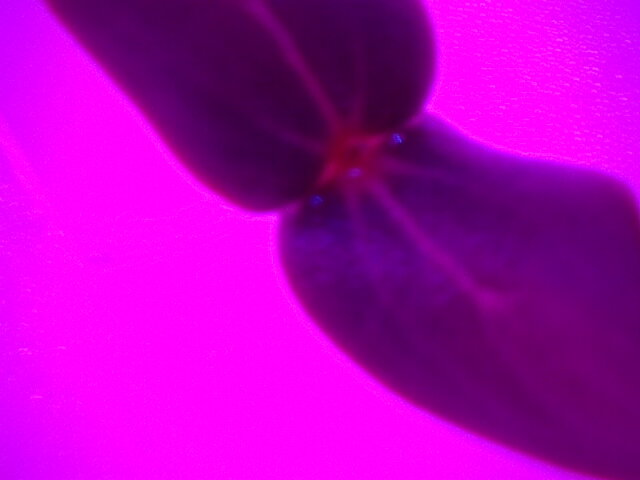seedling: (80, 20, 637, 416)
